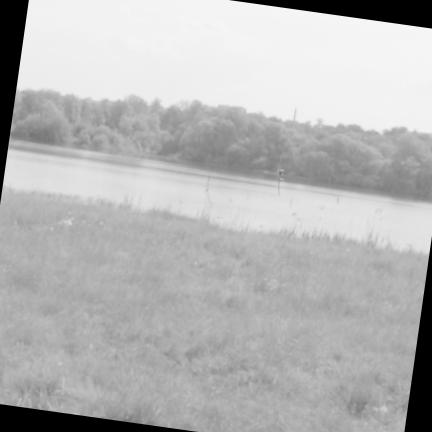Shahed: (277, 156, 284, 195)
